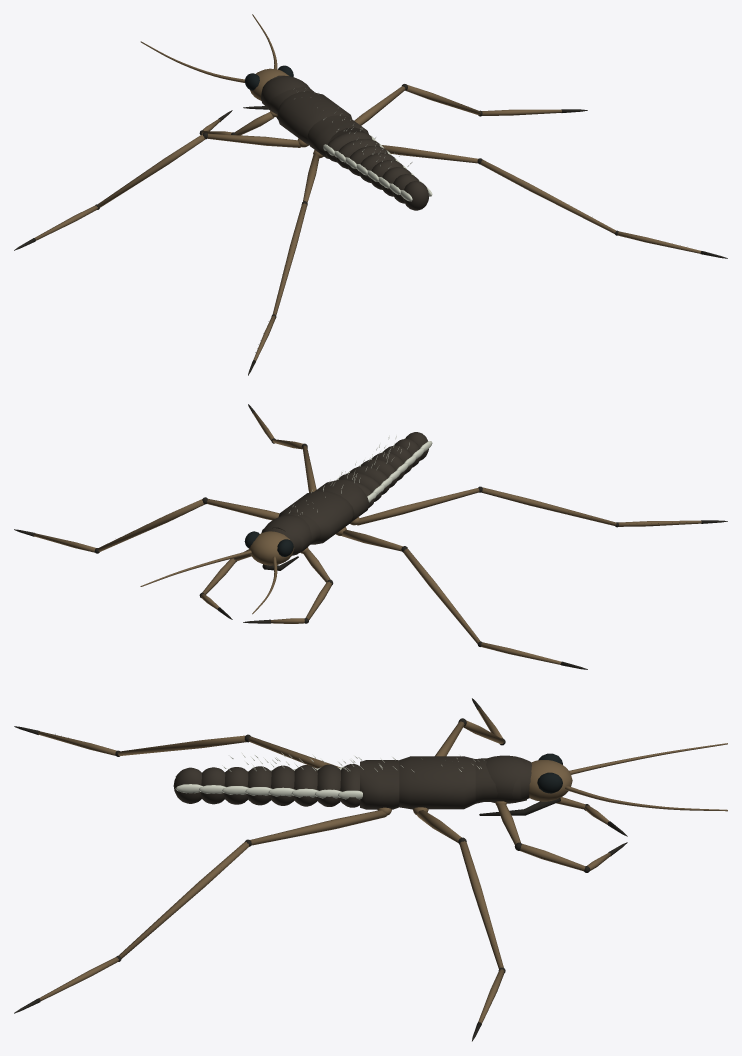
File: WaterStrider.fbx
3 views of the same model, one above another, from view 1: azimuth 30°, elevation 25°; view 2: azimuth 150°, elevation 25°; view 3: azimuth 270°, elevation 25° (orthographic). The views are drawn at different scales.
Visible parts, largest first — view 1: Material group WaterStrider_WarmLegs, Material group WaterStrider_DarkCuticle, Material group WaterStrider_SilverFlanks, Material group WaterStrider_LegJoints; view 2: Material group WaterStrider_WarmLegs, Material group WaterStrider_DarkCuticle, Material group WaterStrider_LegJoints, Material group WaterStrider_SilverFlanks; view 3: Material group WaterStrider_DarkCuticle, Material group WaterStrider_WarmLegs, Material group WaterStrider_SilverFlanks, Material group WaterStrider_LegJoints, Material group WaterStrider_Eyes.
Boxes of the visible parts, left/top/right/bottom form: Material group WaterStrider_WarmLegs: left=35, top=14, right=700, bottom=360; Material group WaterStrider_DarkCuticle: left=261, top=75, right=429, bottom=210; Material group WaterStrider_SilverFlanks: left=293, top=88, right=432, bottom=201; Material group WaterStrider_LegJoints: left=14, top=84, right=727, bottom=375; Material group WaterStrider_WarmLegs: left=33, top=411, right=701, bottom=664; Material group WaterStrider_DarkCuticle: left=261, top=432, right=428, bottom=555; Material group WaterStrider_LegJoints: left=14, top=404, right=727, bottom=669; Material group WaterStrider_SilverFlanks: left=289, top=435, right=432, bottom=515; Material group WaterStrider_DarkCuticle: left=173, top=755, right=531, bottom=809; Material group WaterStrider_WarmLegs: left=38, top=707, right=727, bottom=1023; Material group WaterStrider_SilverFlanks: left=175, top=752, right=484, bottom=799; Material group WaterStrider_LegJoints: left=14, top=698, right=627, bottom=1041; Material group WaterStrider_Eyes: left=537, top=753, right=562, bottom=793.
Size of the model in its own units: 1 by 0.1509 by 0.8794.
